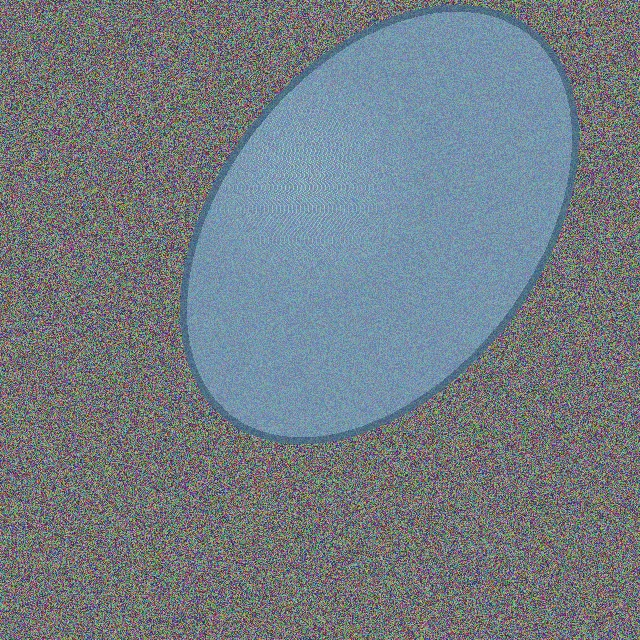lens: (184, 8, 574, 440)
